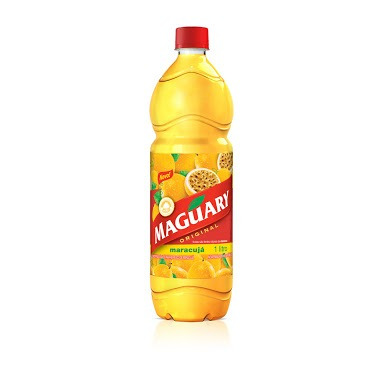maguary: (139, 21, 253, 344)
